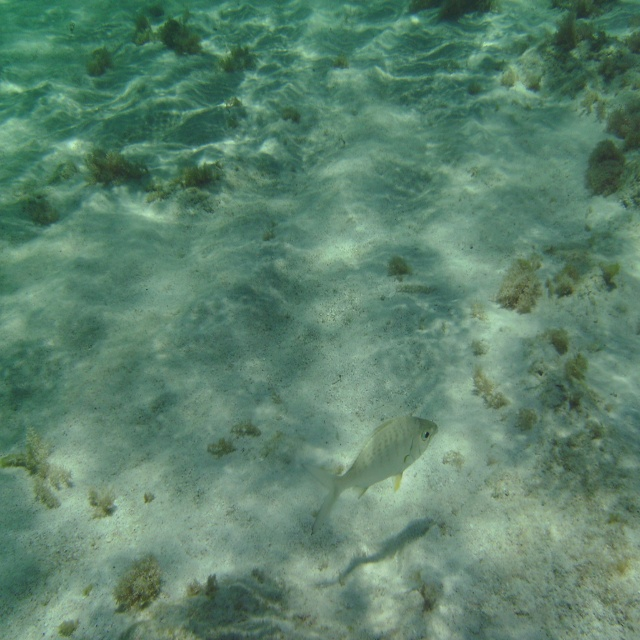Fish: (306, 410, 444, 529)
